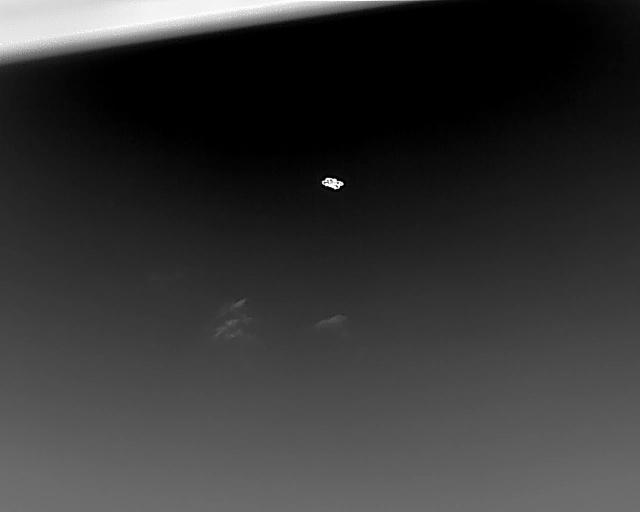fpv-drone: (321, 177, 343, 190)
